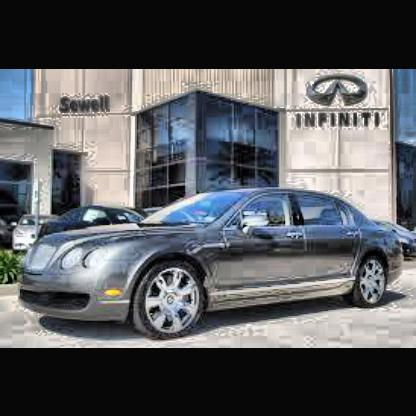Bentley Continental Flying Spur Sedan 2007: (18, 186, 406, 342)
